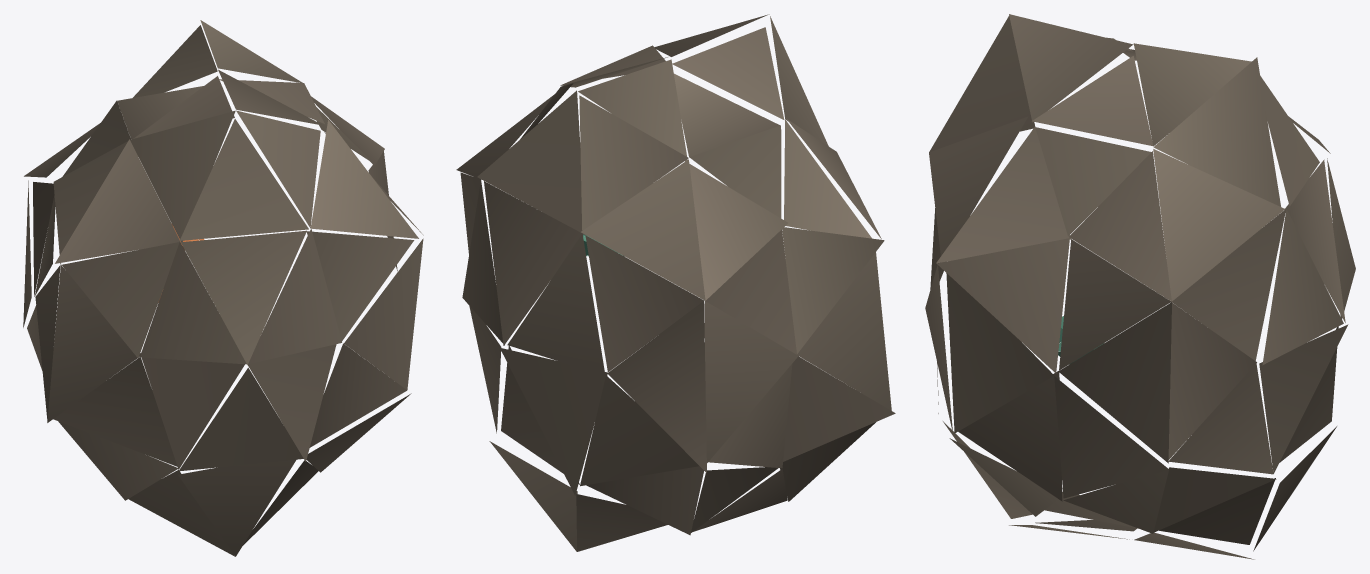
The model's file is standard-lod2.glb.
The picture shows the model from 3 angles, left to right: view 1: azimuth 30°, elevation 25°; view 2: azimuth 150°, elevation 25°; view 3: azimuth 270°, elevation 25°; orthographic projection. The views are drawn at different scales.
Parts seen in each view (by area): view 1: copper-host-rock; view 2: copper-host-rock; view 3: copper-host-rock.
Boxes of the visible parts, <box> form: copper-host-rock: <box>23,20,423,556</box>; copper-host-rock: <box>456,14,895,551</box>; copper-host-rock: <box>925,14,1355,559</box>.
Size of the model in its own units: 2.57 by 2.94 by 2.25.
